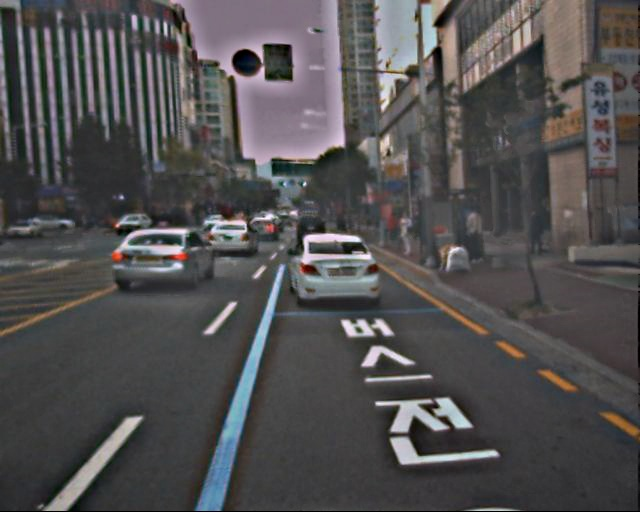person: (461, 205, 486, 267), (525, 205, 547, 258), (396, 212, 415, 258)
